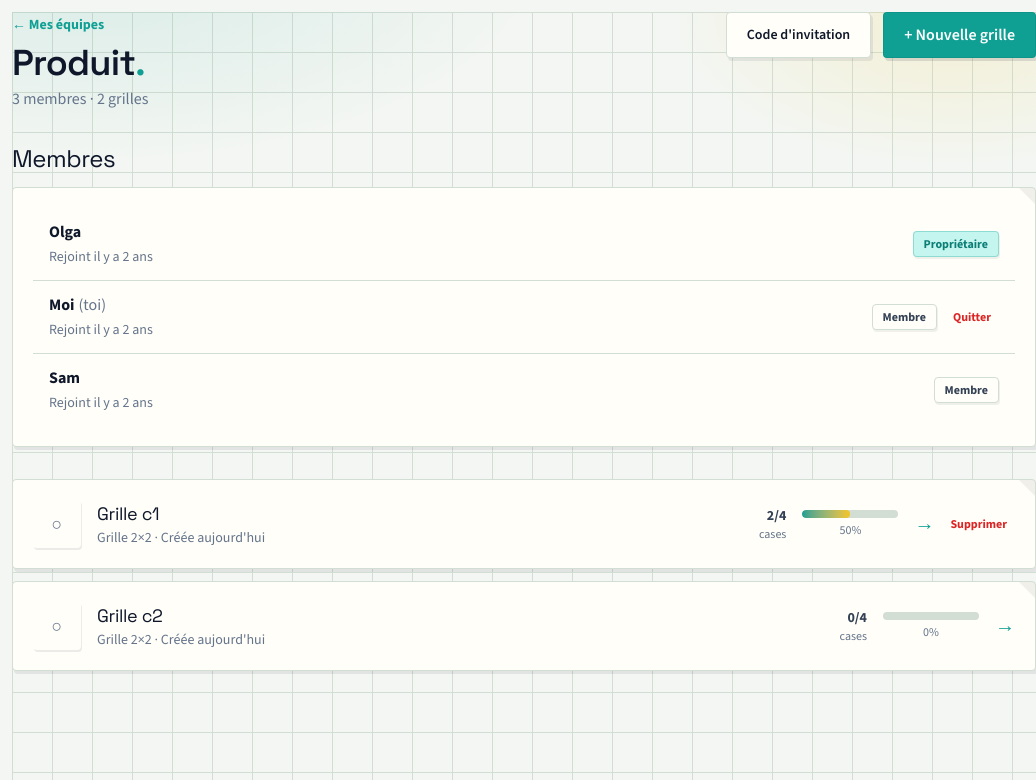
Scenario: TeamClient › garde la grille et affiche l'erreur si la suppression échoue
The image size is (1036, 780).
Click the button "Supprimer". click: (979, 524)
box: [942,512,1015,536]
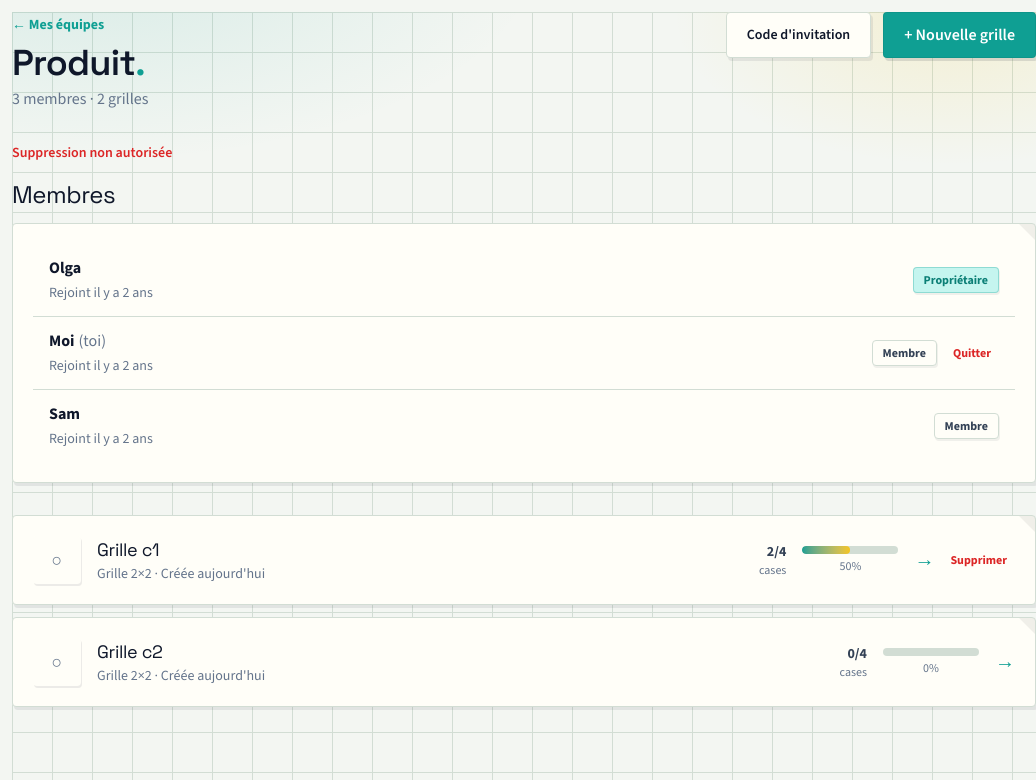
Expected: the link "○ Grille c1 Grille 2×2 · Créée aujourd'hui 2/4 cases 50% →" is shown, [33,536,934,584]
Result: the message reads "Suppression non autorisée" at [12,143,172,162]
